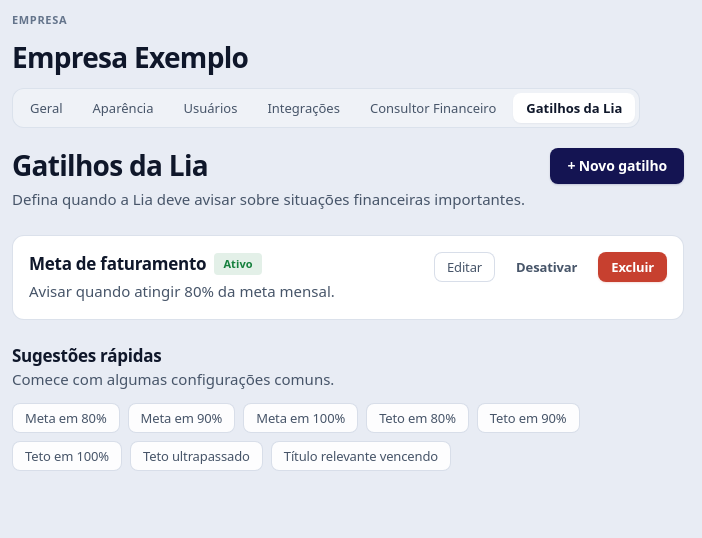
Scenario: UI admin gatilhos da Lia (F14.3) › explica em linguagem simples quando o gatilho tem histórico
The width and height of the screenshot is (702, 538).
What coordinates should you click on to do the following:
click the button "Excluir"
I would click on:
 (633, 267)
Its box is [598,252,667,282].
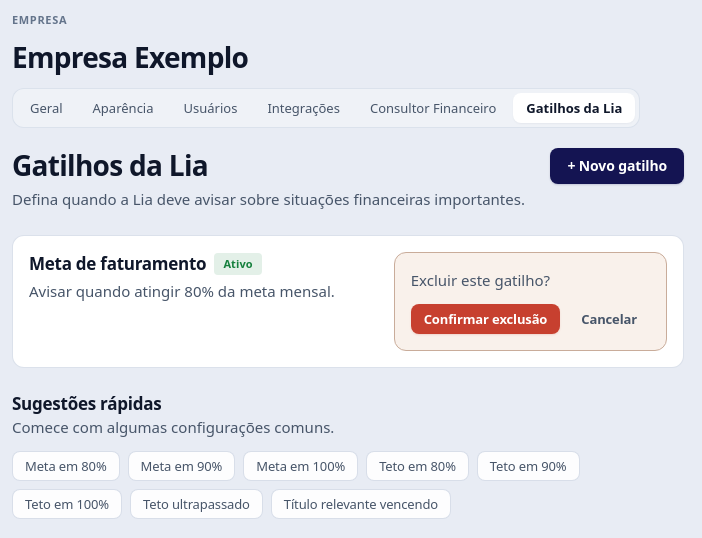
What coordinates should you click on to do the following:
click the button "Confirmar exclusão"
I would click on:
 (486, 319)
Its box is [411,304,560,334].
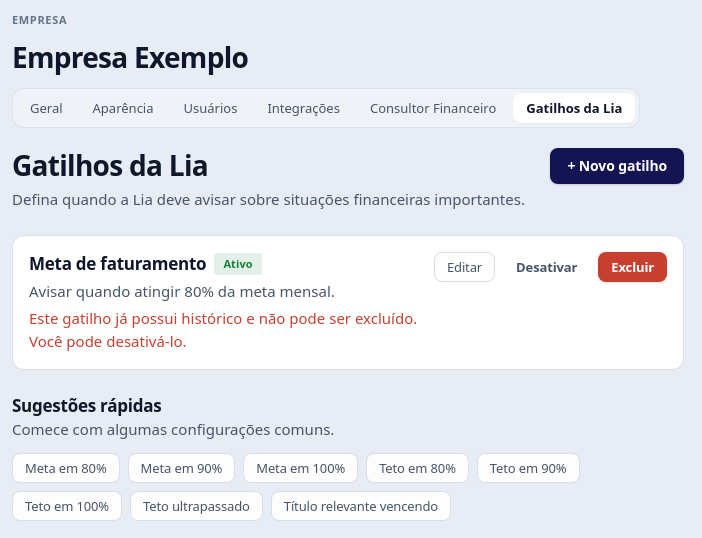
Expected: the text "Este gatilho já possui histórico e não pode ser excluído. Você pode desativá-lo." is shown, [29,307,422,353]
